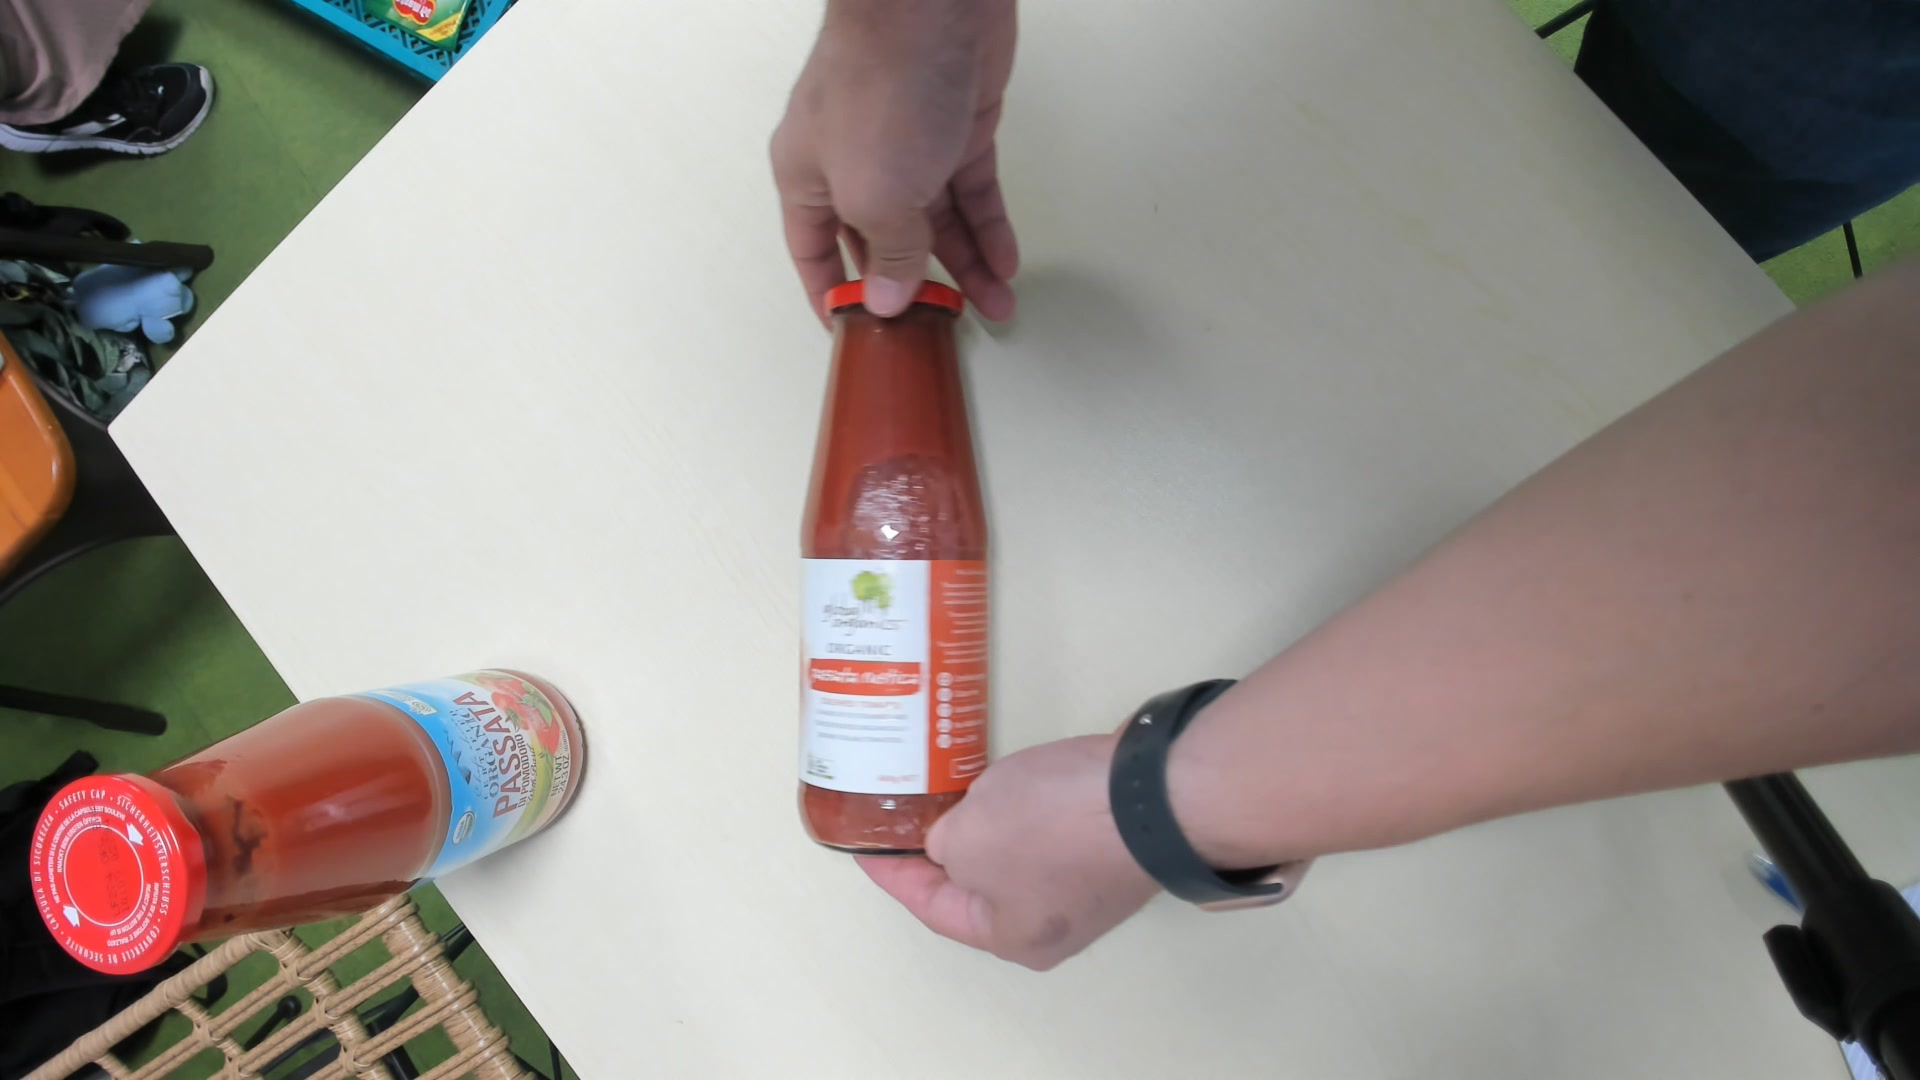PastaSauce_600-699g_NonHalal_NonHealthy: (798, 276, 1000, 866)
